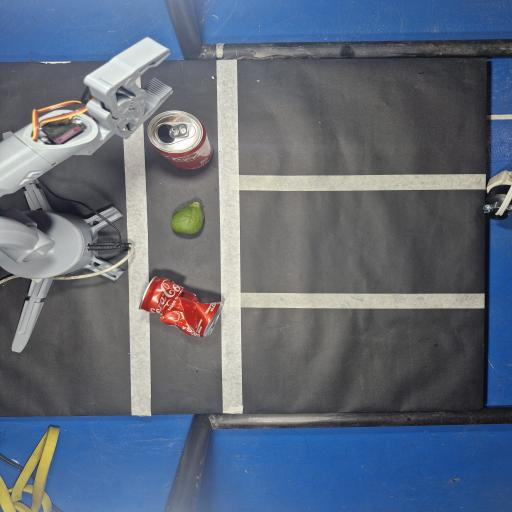higo: (171, 202, 204, 234)
lata: (147, 111, 212, 169)
lata_defectuoso: (139, 277, 222, 337)
